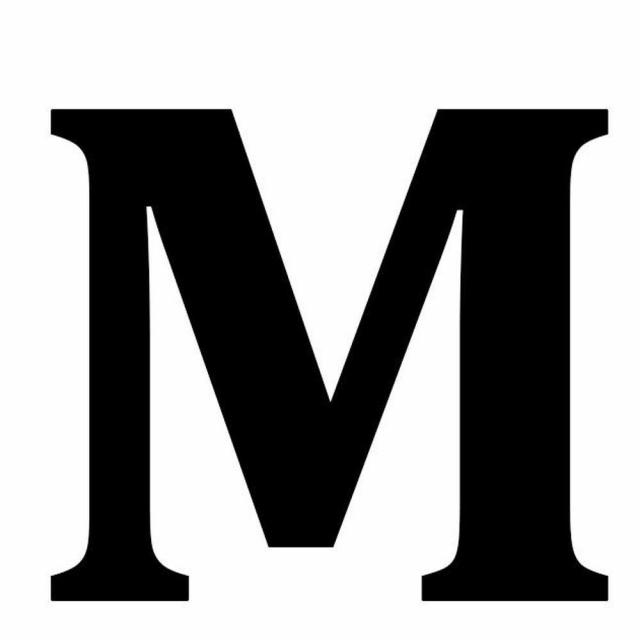M: (29, 51, 624, 621)
